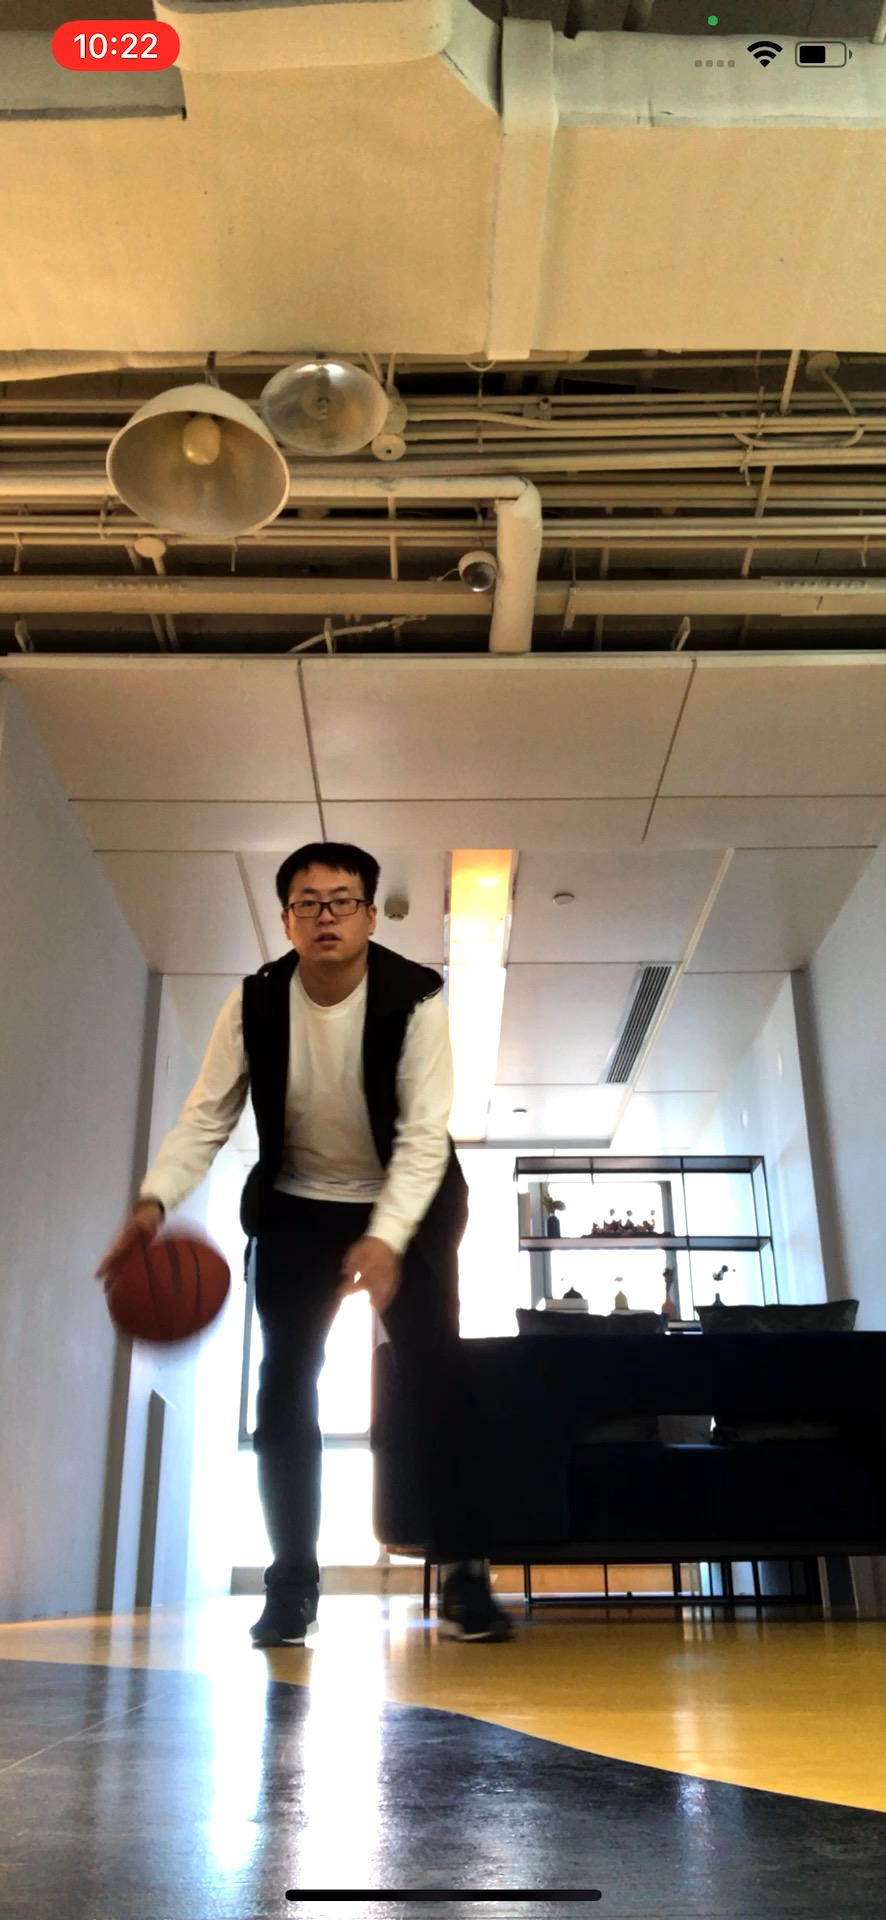ball: (102, 1231, 231, 1347)
